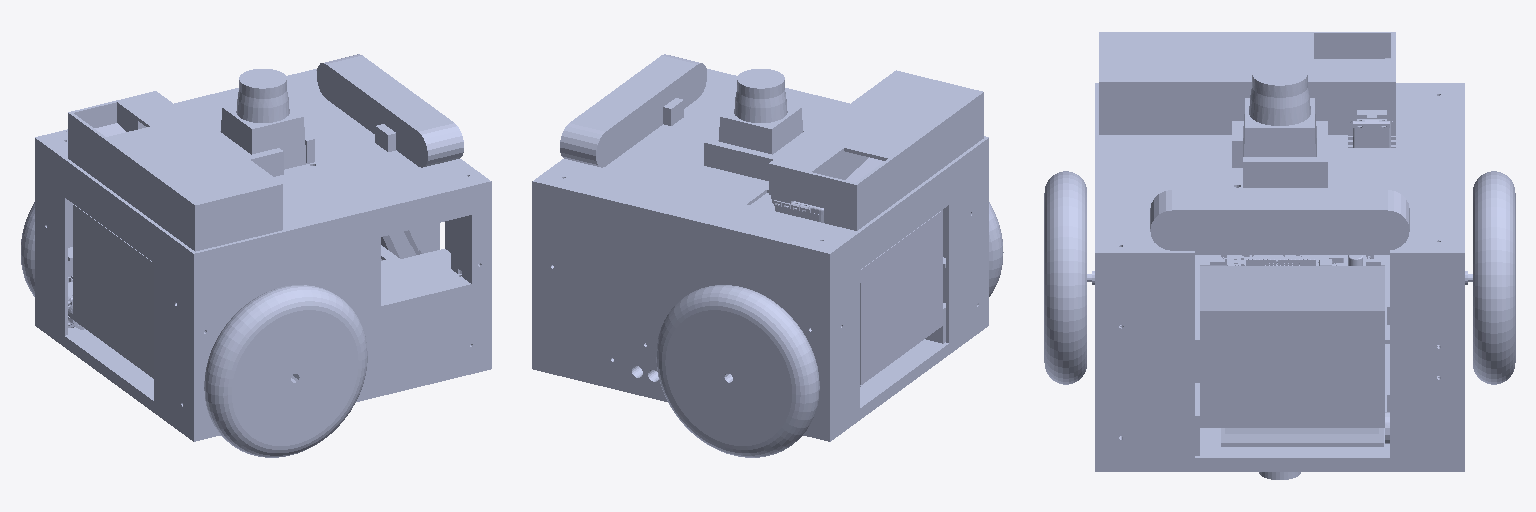
URDF robot description (tnbd):
<?xml version="1.0" encoding="utf-8"?>
<!-- This URDF was automatically created by SolidWorks to URDF Exporter! Originally created by [author] ([email redacted]) 
     Commit Version: 1.6.0-1-g15f4949  Build Version: 1.6.7594.29634
     For more information, please see http://wiki.ros.org/sw_urdf_exporter -->
<robot
  name="tnbd">
  <link
    name="base_link">
    <inertial>
      <origin
        xyz="0.0118828123771107 -0.0151599566389232 0.0203146741285486"
        rpy="0 0 0" />
      <mass
        value="3.82951363180605" />
      <inertia
        ixx="0.00953722660979492"
        ixy="4.41781425832141E-05"
        ixz="-0.000341208625610832"
        iyy="0.0158761844988063"
        iyz="0.00016579675323455"
        izz="0.00924032898116037" />
    </inertial>
    <visual>
      <origin
        xyz="0 0 0"
        rpy="0 0 0" />
      <geometry>
        <mesh
          filename="package://tnbd/meshes/base_link.STL" />
      </geometry>
      <material
        name="">
        <color
          rgba="0.792156862745098 0.819607843137255 0.933333333333333 1" />
      </material>
    </visual>
    <collision>
      <origin
        xyz="0 0 0"
        rpy="0 0 0" />
      <geometry>
        <mesh
          filename="package://tnbd/meshes/base_link.STL" />
      </geometry>
    </collision>
  </link>
  <link
    name="imu_link">
    <inertial>
      <origin
        xyz="-0.0148711338289682 0.0225700856602626 -0.0105521904971602"
        rpy="0 0 0" />
      <mass
        value="5.39050020671944" />
      <inertia
        ixx="0.0660269478366575"
        ixy="0.00165660880666066"
        ixz="0.000691738225942454"
        iyy="0.0516312097649989"
        iyz="-0.000432909278582528"
        izz="0.0830303357844912" />
    </inertial>
    <visual>
      <origin
        xyz="0 0 0"
        rpy="0 0 0" />
      <geometry>
        <mesh
          filename="package://tnbd/meshes/imu_link.STL" />
      </geometry>
      <material
        name="">
        <color
          rgba="0.792156862745098 0.819607843137255 0.933333333333333 1" />
      </material>
    </visual>
    <collision>
      <origin
        xyz="0 0 0"
        rpy="0 0 0" />
      <geometry>
        <mesh
          filename="package://tnbd/meshes/imu_link.STL" />
      </geometry>
    </collision>
  </link>
  <joint
    name="imu_joint"
    type="fixed">
    <origin
      xyz="0 0 0"
      rpy="0 0 -3.1416" />
    <parent
      link="base_link" />
    <child
      link="imu_link" />
    <axis
      xyz="0 0 0" />
  </joint>
  <link
    name="base_scan">
    <inertial>
      <origin
        xyz="1.33939688298779E-08 1.11156737980789E-09 0.0293857857356863"
        rpy="0 0 0" />
      <mass
        value="0.131767415545665" />
      <inertia
        ixx="6.95670084224573E-05"
        ixy="-9.59372993171304E-12"
        ixz="-5.29717288318515E-11"
        iyy="6.95671229244128E-05"
        iyz="-4.39613134808164E-12"
        izz="4.47644343972088E-05" />
    </inertial>
    <visual>
      <origin
        xyz="0 0 0"
        rpy="0 0 0" />
      <geometry>
        <mesh
          filename="package://tnbd/meshes/base_scan.STL" />
      </geometry>
      <material
        name="">
        <color
          rgba="0.792156862745098 0.819607843137255 0.933333333333333 1" />
      </material>
    </visual>
    <collision>
      <origin
        xyz="0 0 0"
        rpy="0 0 0" />
      <geometry>
        <mesh
          filename="package://tnbd/meshes/base_scan.STL" />
      </geometry>
    </collision>
  </link>
  <joint
    name="scan_joint"
    type="fixed">
    <origin
      xyz="0.033457 -0.012168 0.08"
      rpy="0 0 0" />
    <parent
      link="base_link" />
    <child
      link="base_scan" />
    <axis
      xyz="0 0 0" />
  </joint>
  <link
    name="camera_link">
    <inertial>
      <origin
        xyz="-6.93889390390723E-17 -2.45868853054887E-10 0.0165"
        rpy="0 0 0" />
      <mass
        value="0.166876325452904" />
      <inertia
        ixx="2.72223823415769E-05"
        ixy="-2.58754254803585E-19"
        ixz="-3.93505911224222E-19"
        iyy="0.000412109193003404"
        iyz="4.56820459567891E-14"
        izz="0.000409043522275279" />
    </inertial>
    <visual>
      <origin
        xyz="0 0 0"
        rpy="0 0 0" />
      <geometry>
        <mesh
          filename="package://tnbd/meshes/camera_link.STL" />
      </geometry>
      <material
        name="">
        <color
          rgba="0.792156862745098 0.819607843137255 0.933333333333333 1" />
      </material>
    </visual>
    <collision>
      <origin
        xyz="0 0 0"
        rpy="0 0 0" />
      <geometry>
        <mesh
          filename="package://tnbd/meshes/camera_link.STL" />
      </geometry>
    </collision>
  </link>
  <joint
    name="camera_joint"
    type="fixed">
    <origin
      xyz="0.16546 -0.012168 0.095"
      rpy="-1.5708 0 1.5708" />
    <parent
      link="base_link" />
    <child
      link="camera_link" />
    <axis
      xyz="0 0 0" />
  </joint>
  <link
    name="wheel_left_link">
    <inertial>
      <origin
        xyz="-4.5102810375397E-17 -9.0205620750794E-17 0.0145"
        rpy="0 0 0" />
      <mass
        value="0.431849530870227" />
      <inertia
        ixx="0.000547310482911071"
        ixy="2.71050543121376E-20"
        ixz="-1.81452362622999E-19"
        iyy="0.000547310482911071"
        iyz="-1.28725864655537E-19"
        izz="0.00103898710950625" />
    </inertial>
    <visual>
      <origin
        xyz="0 0 0"
        rpy="0 0 0" />
      <geometry>
        <mesh
          filename="package://tnbd/meshes/wheel_left_link.STL" />
      </geometry>
      <material
        name="">
        <color
          rgba="0.792156862745098 0.819607843137255 0.933333333333333 1" />
      </material>
    </visual>
    <collision>
      <origin
        xyz="0 0 0"
        rpy="0 0 0" />
      <geometry>
        <mesh
          filename="package://tnbd/meshes/wheel_left_link.STL" />
      </geometry>
    </collision>
  </link>
  <joint
    name="wheel_left_joint"
    type="continuous">
    <origin
      xyz="-0.029043 0.11763 -0.0309"
      rpy="-1.5708 0.22977 0" />
    <parent
      link="base_link" />
    <child
      link="wheel_left_link" />
    <axis
      xyz="0 0 1" />
  </joint>
  <link
    name="wheel_right_link">
    <inertial>
      <origin
        xyz="0 0 0.0145"
        rpy="0 0 0" />
      <mass
        value="0.431849530870227" />
      <inertia
        ixx="0.000547310482911071"
        ixy="-2.71050543121376E-20"
        ixz="-1.394926709703E-19"
        iyy="0.000547310482911071"
        iyz="-7.78691293765183E-20"
        izz="0.00103898710950625" />
    </inertial>
    <visual>
      <origin
        xyz="0 0 0"
        rpy="0 0 0" />
      <geometry>
        <mesh
          filename="package://tnbd/meshes/wheel_right_link.STL" />
      </geometry>
      <material
        name="">
        <color
          rgba="0.792156862745098 0.819607843137255 0.933333333333333 1" />
      </material>
    </visual>
    <collision>
      <origin
        xyz="0 0 0"
        rpy="0 0 0" />
      <geometry>
        <mesh
          filename="package://tnbd/meshes/wheel_right_link.STL" />
      </geometry>
    </collision>
  </link>
  <joint
    name="wheel_right_joint"
    type="continuous">
    <origin
      xyz="-0.029043 -0.14197 -0.0309"
      rpy="-1.5708 -1.1484 3.1416" />
    <parent
      link="base_link" />
    <child
      link="wheel_right_link" />
    <axis
      xyz="0 0 1" />
  </joint>
  <link
    name="front_link">
    <inertial>
      <origin
        xyz="-0.106387398730393 -0.0241722425834856 -0.0475102012708915"
        rpy="0 0 0" />
      <mass
        value="0.273534418315026" />
      <inertia
        ixx="0.000334043672794129"
        ixy="6.52325344689438E-07"
        ixz="1.2821362483546E-06"
        iyy="0.000727701941790312"
        iyz="-0.000125647714472025"
        izz="0.000619074079142028" />
    </inertial>
    <visual>
      <origin
        xyz="0 0 0"
        rpy="0 0 0" />
      <geometry>
        <mesh
          filename="package://tnbd/meshes/front_link.STL" />
      </geometry>
      <material
        name="">
        <color
          rgba="0.792156862745098 0.819607843137255 0.933333333333333 1" />
      </material>
    </visual>
    <collision>
      <origin
        xyz="0 0 0"
        rpy="0 0 0" />
      <geometry>
        <mesh
          filename="package://tnbd/meshes/front_link.STL" />
      </geometry>
    </collision>
  </link>
  <joint
    name="front_joint"
    type="revolute">
    <origin
      xyz="0.15446 0 -0.057"
      rpy="-2.7277 0 1.5708" />
    <parent
      link="base_link" />
    <child
      link="front_link" />
    <axis
      xyz="1 0 0" />
    <limit
      lower="0"
      upper="0"
      effort="0"
      velocity="0" />
  </joint>
  <link
    name="feed_link">
    <inertial>
      <origin
        xyz="-0.0165698438786785 1.15879528195251E-15 0.000750000000000042"
        rpy="0 0 0" />
      <mass
        value="0.00143426215563702" />
      <inertia
        ixx="5.89380670397773E-08"
        ixy="4.92131105438424E-21"
        ixz="6.10747572651202E-22"
        iyy="2.65747442341082E-07"
        iyz="-1.76577131822209E-20"
        izz="3.24147661072495E-07" />
    </inertial>
    <visual>
      <origin
        xyz="0 0 0"
        rpy="0 0 0" />
      <geometry>
        <mesh
          filename="package://tnbd/meshes/feed_link.STL" />
      </geometry>
      <material
        name="">
        <color
          rgba="0.792156862745098 0.819607843137255 0.933333333333333 1" />
      </material>
    </visual>
    <collision>
      <origin
        xyz="0 0 0"
        rpy="0 0 0" />
      <geometry>
        <mesh
          filename="package://tnbd/meshes/feed_link.STL" />
      </geometry>
    </collision>
  </link>
  <joint
    name="feed_joint"
    type="revolute">
    <origin
      xyz="-0.057043 0.049832 0.0513"
      rpy="0 0 1.5635" />
    <parent
      link="base_link" />
    <child
      link="feed_link" />
    <axis
      xyz="0 0 1" />
    <limit
      lower="0"
      upper="0"
      effort="0"
      velocity="0" />
  </joint>
  <link
    name="back_link">
    <inertial>
      <origin
        xyz="-0.00543276816529464 -0.000916138436977992 -0.0453101770351191"
        rpy="0 0 0" />
      <mass
        value="0.123674446484502" />
      <inertia
        ixx="0.000154119408139331"
        ixy="-8.33579496985985E-08"
        ixz="-4.11070369647792E-06"
        iyy="0.000392855091836655"
        iyz="-7.8928663261899E-06"
        izz="0.000263524969170412" />
    </inertial>
    <visual>
      <origin
        xyz="0 0 0"
        rpy="0 0 0" />
      <geometry>
        <mesh
          filename="package://tnbd/meshes/back_link.STL" />
      </geometry>
      <material
        name="">
        <color
          rgba="0.792156862745098 0.819607843137255 0.933333333333333 1" />
      </material>
    </visual>
    <collision>
      <origin
        xyz="0 0 0"
        rpy="0 0 0" />
      <geometry>
        <mesh
          filename="package://tnbd/meshes/back_link.STL" />
      </geometry>
    </collision>
  </link>
  <joint
    name="back_joint"
    type="revolute">
    <origin
      xyz="-0.087043 0 -0.057"
      rpy="-3.1392 0 1.5708" />
    <parent
      link="base_link" />
    <child
      link="back_link" />
    <axis
      xyz="1 0 0" />
    <limit
      lower="0"
      upper="0"
      effort="0"
      velocity="0" />
  </joint>
</robot>

--- Facts derived from the render (not from the file) ---
Views: 3 orthographic renders of the robot side by side, from view 1: azimuth 30°, elevation 25°; view 2: azimuth 150°, elevation 25°; view 3: azimuth 270°, elevation 25°.
Robot: tnbd — 9 links, 8 joints (3 revolute, 2 continuous, 3 fixed); root link base_link; default pose: every joint at zero.
Links seen in each view (by area): view 1: base_link, wheel_right_link, back_link, camera_link, base_scan, front_link, wheel_left_link; view 2: base_link, wheel_left_link, back_link, camera_link, base_scan, wheel_right_link; view 3: base_link, front_link, camera_link, wheel_right_link, wheel_left_link, base_scan, imu_link.
Boxes of the visible links, x1=… form: base_link: x1=35, y1=69, x2=491, y2=441; wheel_right_link: x1=204, y1=285, x2=367, y2=457; back_link: x1=70, y1=204, x2=153, y2=378; camera_link: x1=317, y1=54, x2=463, y2=167; base_scan: x1=221, y1=69, x2=306, y2=169; front_link: x1=381, y1=223, x2=439, y2=258; wheel_left_link: x1=21, y1=202, x2=34, y2=296; base_link: x1=532, y1=69, x2=988, y2=441; wheel_left_link: x1=656, y1=285, x2=819, y2=457; back_link: x1=860, y1=210, x2=942, y2=386; camera_link: x1=560, y1=54, x2=706, y2=167; base_scan: x1=719, y1=69, x2=802, y2=154; wheel_right_link: x1=989, y1=202, x2=1003, y2=296; base_link: x1=1087, y1=32, x2=1472, y2=479; front_link: x1=1200, y1=265, x2=1389, y2=443; camera_link: x1=1150, y1=190, x2=1409, y2=250; wheel_right_link: x1=1044, y1=171, x2=1086, y2=384; wheel_left_link: x1=1473, y1=171, x2=1515, y2=384; base_scan: x1=1243, y1=62, x2=1316, y2=156; imu_link: x1=1220, y1=255, x2=1373, y2=265.
Size in the robot's own frame: 0.27 by 0.3176 by 0.253 metres.
Meshes: 9 distinct files referenced, 9 mesh visuals loaded (9 binary STL).